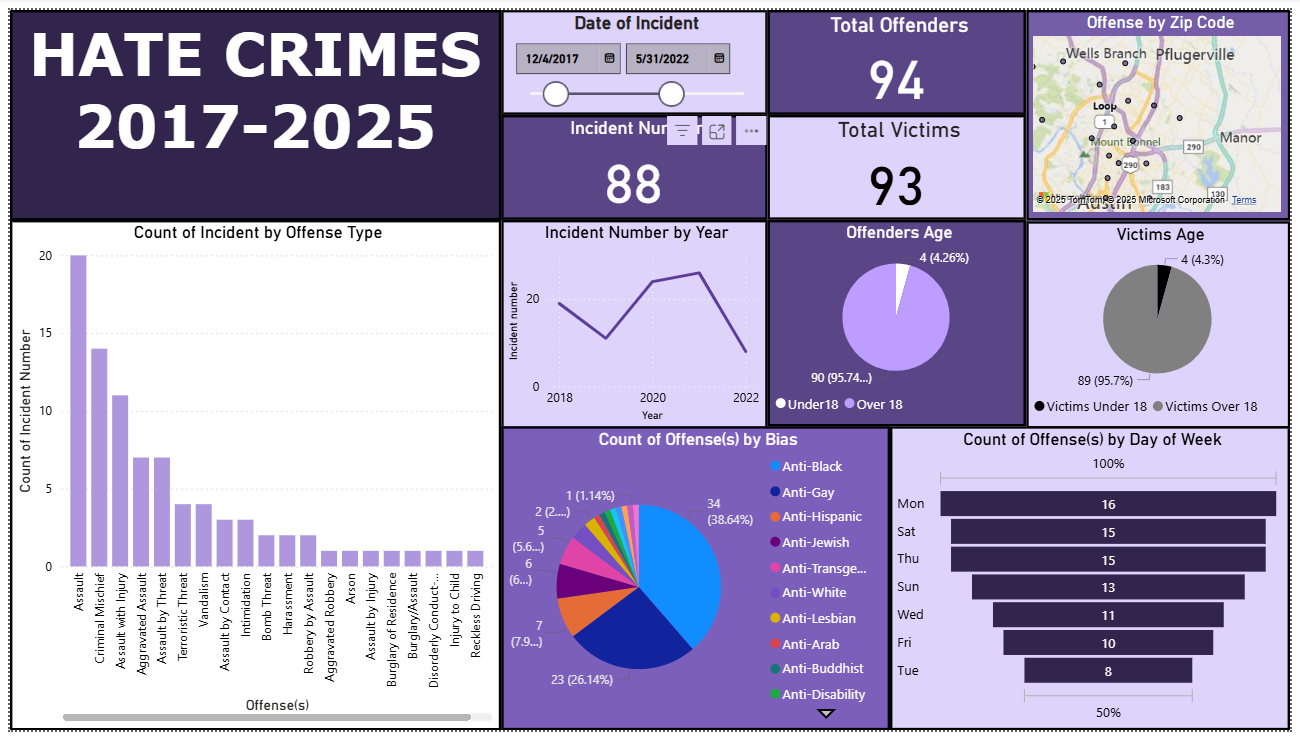

What the dashboard file says about the page in this screenshot:
{"tool":"powerbi","page":{"name":"Page 1","canvas":[1280,720],"ordinal":0},"visuals":[{"type":"card","title":"Incident Number","fields":{"Values":["CountNonNull(Hate crimes 2017-2025.Incident Number)"]},"box":[491.2,105,266.2,105],"z":0},{"type":"textbox","box":[0,0,491.2,210],"z":1000},{"type":"lineChart","title":"Incident Number by Year","fields":{"Category":["Hate crimes 2017-2025.Date of Incident.Variation.Date Hierarchy.Year","Hate crimes 2017-2025.Date of Incident.Variation.Date Hierarchy.Quarter","Hate crimes 2017-2025.Date of Incident.Variation.Date Hierarchy.Month","Hate crimes 2017-2025.Date of Incident.Variation.Date Hierarchy.Day"],"Y":["CountNonNull(Hate crimes 2017-2025.Incident Number)"]},"box":[491.2,210,266.2,210],"z":2000},{"type":"clusteredColumnChart","title":"Count of Incident by Offense Type","fields":{"Category":["Hate crimes 2017-2025.Offense(s)"],"Y":["CountNonNull(Hate crimes 2017-2025.Incident Number)"]},"box":[0,210,491.2,510],"z":3000},{"type":"pieChart","title":"Offenders Age","fields":{"Y":["Hatecrimes.Sum_Offenders_U18","Hatecrimes.Sum_Offenders_O18"]},"box":[757.5,210,258.8,206.2],"z":4000},{"type":"slicer","title":"Date of Incident","fields":{"Values":["Hatecrimes.Date of Incident"]},"box":[491.2,0,266.2,105],"z":5000},{"type":"funnel","title":"Count of Offense(s) by Day of Week","fields":{"Category":["Hatecrimes.Day of Week"],"Y":["CountNonNull(Hatecrimes.Offense(s))"]},"box":[880,416.2,400,303.8],"z":6000},{"type":"pieChart","fields":{"Y":["CountNonNull(Hatecrimes.Offense(s))"],"Category":["Hatecrimes.Bias1"]},"box":[491.2,416.2,388.8,303.8],"z":7000},{"type":"map","title":"Offense by Zip Code","fields":{"Category":["Hatecrimes.Zip Code"]},"box":[1016.2,0,263.8,210],"z":8000},{"type":"pieChart","title":"Victims Age","fields":{"Y":["Hatecrimes.Victims_U18","Hatecrimes.Victims_O18"]},"box":[1016.2,211.2,263.8,207.5],"z":9000},{"type":"card","title":"Total Victims","fields":{"Values":["Hatecrimes.Total_Victims"]},"box":[757.5,105,258.8,105],"z":10000},{"type":"card","title":"Total Offenders","fields":{"Values":["Hatecrimes.Total_Offenders"]},"box":[757.5,0,258.8,105],"z":11000}]}

Visuals, with their boxes in screenshot pixels (x1, y1, x2, y2), scaled from the page's 1280x720 canvas onto the 1300x737 screenshot:
"Incident Number" card: 499:107:769:215
textbox: 0:0:499:215
"Incident Number by Year" lineChart: 499:215:769:430
"Count of Incident by Offense Type" clusteredColumnChart: 0:215:499:736
"Offenders Age" pieChart: 769:215:1032:426
"Date of Incident" slicer: 499:0:769:107
"Count of Offense(s) by Day of Week" funnel: 894:426:1299:736
pieChart - CountNonNull(Hatecrimes.Offense(s)) x Hatecrimes.Bias1: 499:426:894:736
"Offense by Zip Code" map: 1032:0:1299:215
"Victims Age" pieChart: 1032:216:1299:429
"Total Victims" card: 769:107:1032:215
"Total Offenders" card: 769:0:1032:107
